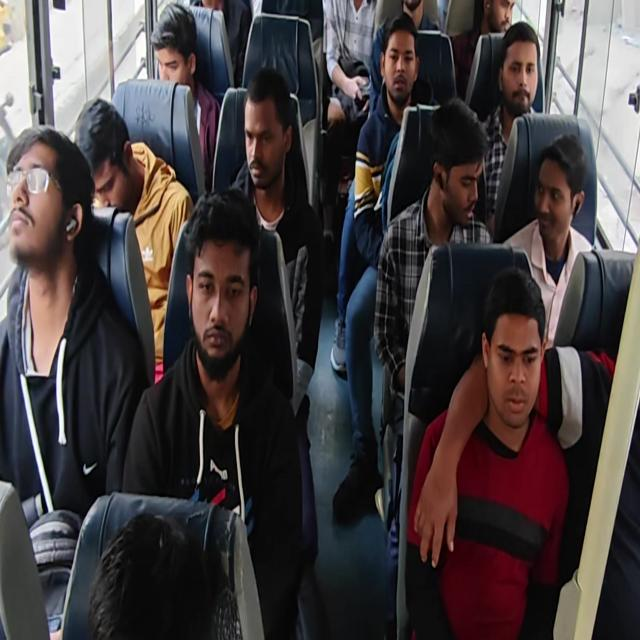person: (0, 1, 629, 638), (418, 132, 617, 584), (121, 186, 304, 638), (0, 125, 149, 637), (372, 96, 492, 636), (404, 266, 570, 638), (331, 12, 435, 520), (227, 66, 324, 562), (74, 97, 194, 384), (502, 132, 594, 350), (86, 512, 221, 638), (475, 21, 540, 235), (150, 2, 221, 193), (368, 0, 441, 118), (323, 0, 377, 127), (451, 0, 515, 102), (190, 0, 252, 87), (400, 0, 440, 32)
